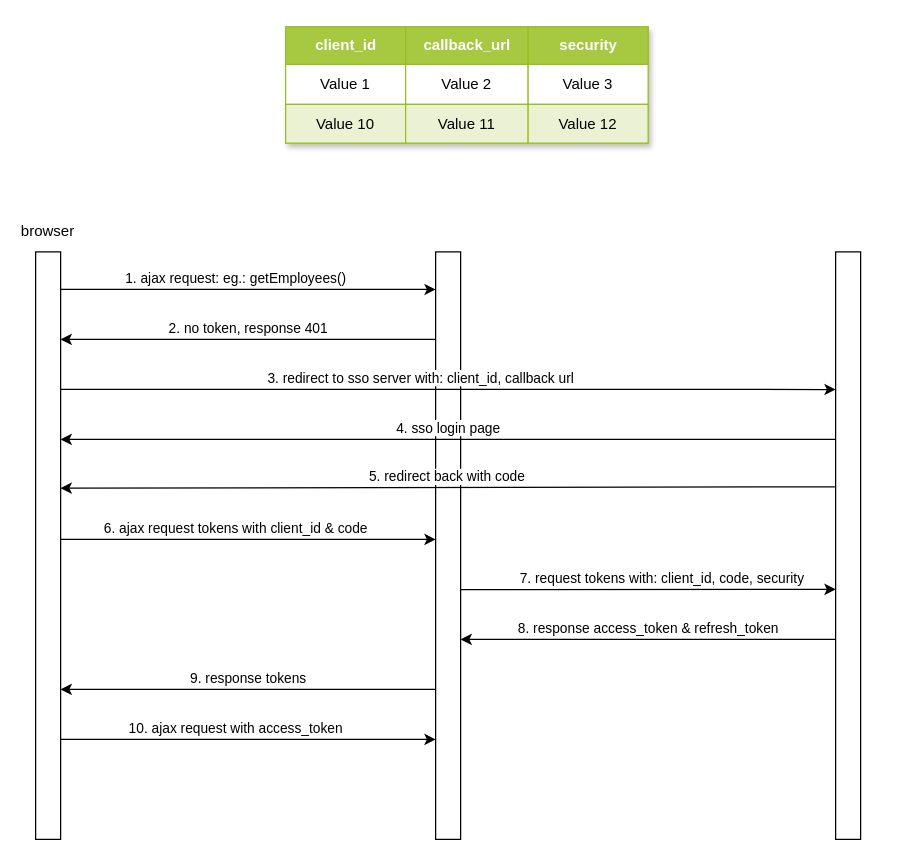
Image size: 906x861. Some labels were removed from this diagram. The centre of each missing label's shape, as x and y in pixels:
service: (x=447, y=545)
sso_server: (x=847, y=545)
